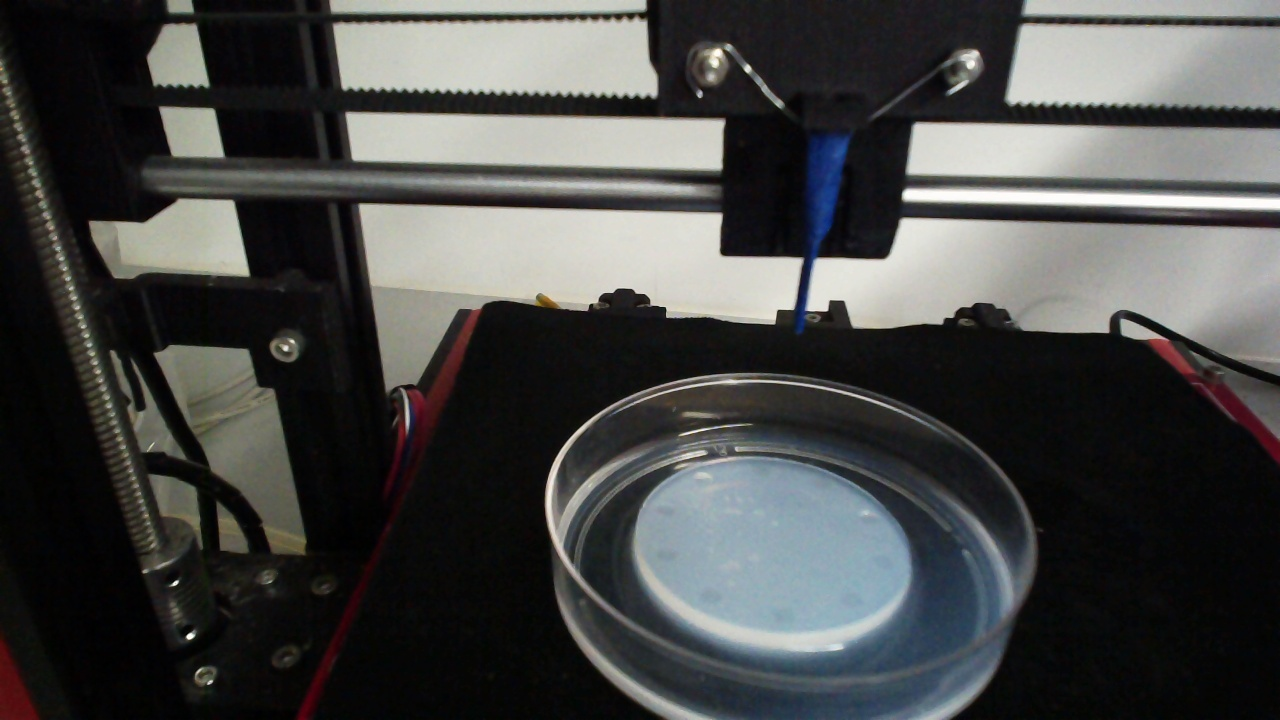groove: (769, 606, 796, 626), (696, 587, 725, 604), (655, 545, 683, 562), (839, 590, 864, 609), (691, 470, 715, 487), (651, 502, 677, 517), (870, 553, 892, 569), (857, 510, 878, 526), (809, 476, 832, 490), (749, 464, 772, 477)
needle: (795, 134, 850, 335)
